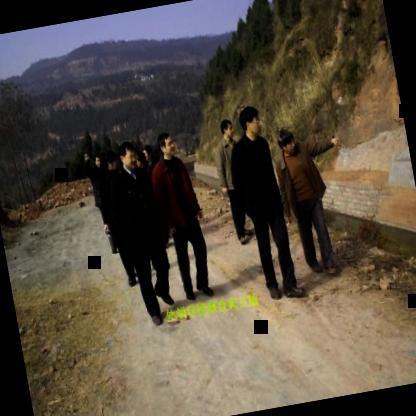head: (271, 118, 303, 163), (234, 101, 266, 144), (152, 128, 178, 160), (116, 140, 138, 171), (217, 115, 236, 143), (99, 148, 119, 174), (139, 142, 155, 164), (91, 150, 103, 170)
